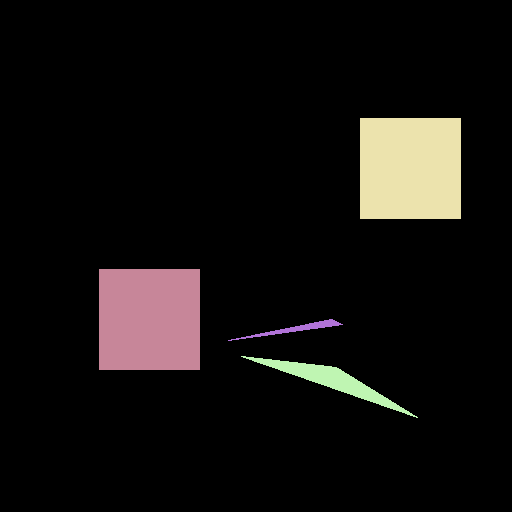square: (99, 269, 199, 369), (360, 118, 460, 218)
triangle: (241, 356, 417, 417), (228, 319, 342, 340)
